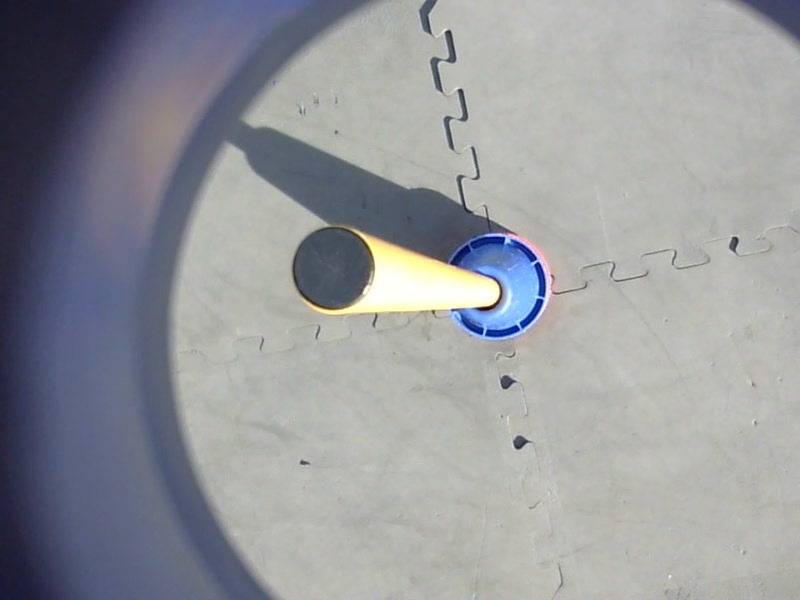tip: (284, 221, 382, 320)
